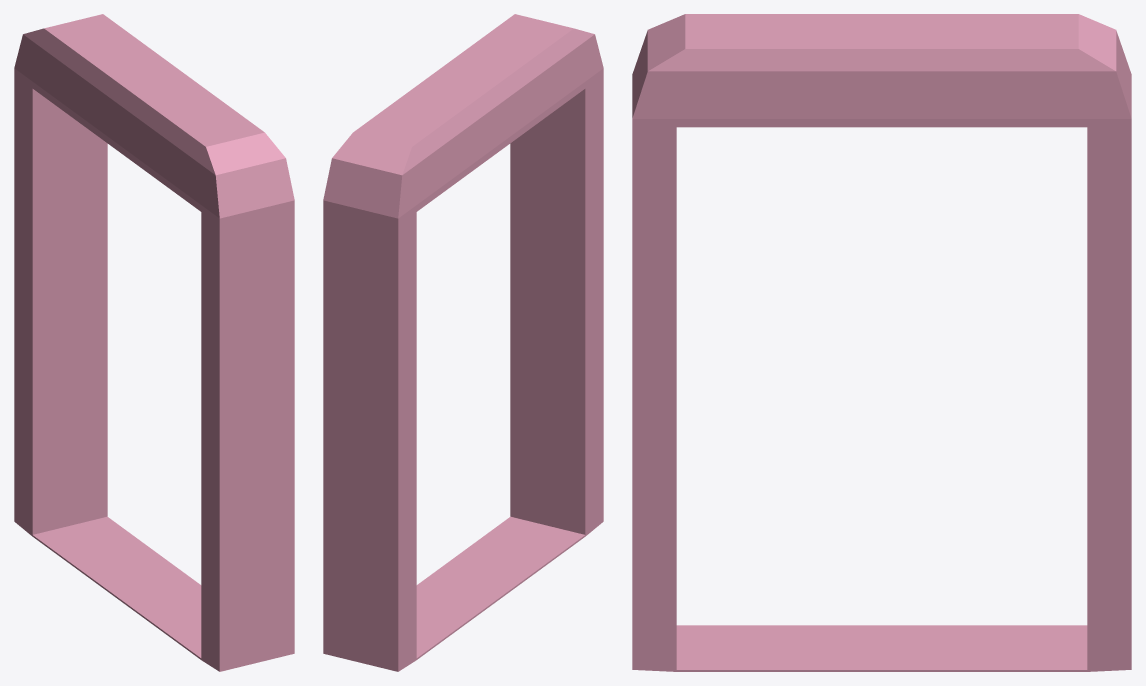
The model's file is gate.fbx.
The picture shows the model from 3 angles, left to right: view 1: azimuth 30°, elevation 25°; view 2: azimuth 150°, elevation 25°; view 3: azimuth 270°, elevation 25°; orthographic projection. The views are drawn at different scales.
Visible parts, largest first — view 1: Cube; view 2: Cube; view 3: Cube.
Part boxes in pixels (left/top/right/bottom): Cube: left=14, top=14, right=294, bottom=671; Cube: left=323, top=14, right=603, bottom=671; Cube: left=632, top=14, right=1131, bottom=671.
Size of the model in its own units: 148 by 957 by 701.
